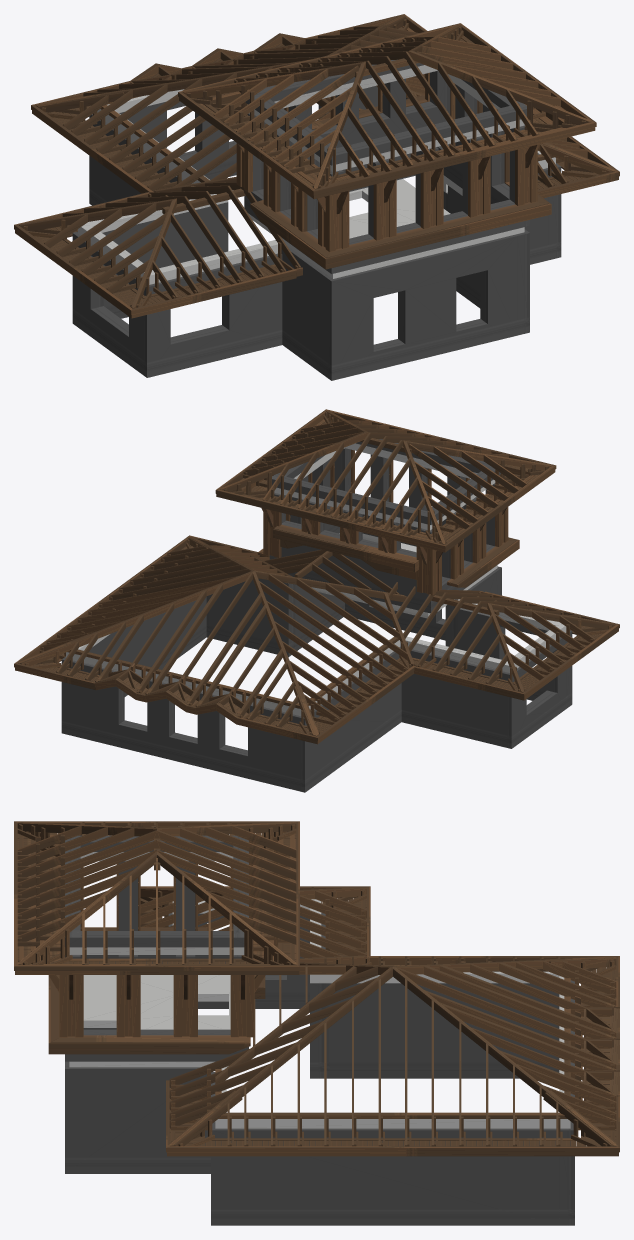
Rendered from Полная модель.glb.
3 views of the same model, one above another, from view 1: azimuth 30°, elevation 25°; view 2: azimuth 150°, elevation 25°; view 3: azimuth 270°, elevation 25° (orthographic). The views are drawn at different scales.
Parts seen in each view (by area): view 1: Базовая стена 1 этаж. Газобето_1a683b7, Стропилка. Основная, Стропилка. Башна, Базовая стена 1 этаж. Газобето_6445270, Базовая стена 1 этаж. Газобето_584556d, Перекрытие Башня. пояс [1394610], Перекрытие 2 этаж. Плита перек_e82685c, Перекрытие Башня. пояс [1185363], Деревянный брус 350х30 [1219446], Деревянный брус 145х45 [1384969], Деревянный брус 120х20 [1379587], Деревянный брус 145х45 [1185863] (+13 smaller); view 2: Базовая стена 1 этаж. Газобето_1a683b7, Стропилка. Основная, Стропилка. Башна, Базовая стена 1 этаж. Газобето_6445270, Перекрытие Башня. пояс [1394610], Базовая стена 1 этаж. Газобето_584556d, Перекрытие Башня. пояс [1185363], Деревянный брус 120х20 [1386294], Деревянный брус 350х30 [1220548], Деревянный брус 145х20 [1200578], Перекрытие 2 этаж. Плита перек_e82685c, Деревянный брус 145х45 [1215533] (+5 smaller); view 3: Базовая стена 1 этаж. Газобето_1a683b7, Стропилка. Основная, Стропилка. Башна, Перекрытие 2 этаж. Плита перек_e82685c, Базовая стена 1 этаж. Газобето_6445270, Перекрытие Башня. пояс [1394610], Базовая стена 1 этаж. Газобето_584556d, Деревянный брус 120х20 [1358651], Деревянный брус 145х20 [1358649], Перекрытие Башня. пояс [1185363], Деревянный брус 120х20 [1386140], Деревянный брус 350х30 [1217329] (+15 smaller).
Part boxes in pixels (x1,y1,x2,y2): Базовая стена 1 этаж. Газобето_1a683b7: [72, 86, 561, 380]; Стропилка. Основная: [19, 15, 614, 308]; Стропилка. Башна: [183, 25, 591, 189]; Базовая стена 1 этаж. Газобето_6445270: [244, 71, 529, 273]; Базовая стена 1 этаж. Газобето_584556d: [245, 59, 526, 165]; Перекрытие Башня. пояс [1394610]: [78, 89, 555, 284]; Перекрытие 2 этаж. Плита перек_e82685c: [248, 175, 524, 278]; Перекрытие Башня. пояс [1185363]: [254, 65, 524, 171]; Деревянный брус 350х30 [1219446]: [326, 201, 548, 257]; Деревянный брус 145х45 [1384969]: [325, 204, 551, 264]; Деревянный брус 120х20 [1379587]: [313, 122, 596, 195]; Деревянный брус 145х45 [1185863]: [325, 209, 551, 269]; Базовая стена 1 этаж. Газобето_1a683b7: [61, 566, 572, 792]; Стропилка. Основная: [18, 537, 615, 736]; Стропилка. Башна: [219, 410, 551, 544]; Базовая стена 1 этаж. Газобето_6445270: [269, 448, 501, 613]; Перекрытие Башня. пояс [1394610]: [66, 583, 566, 716]; Базовая стена 1 этаж. Газобето_584556d: [272, 439, 500, 524]; Перекрытие Башня. пояс [1185363]: [274, 443, 495, 530]; Деревянный брус 120х20 [1386294]: [215, 490, 445, 549]; Деревянный брус 350х30 [1220548]: [274, 524, 418, 563]; Деревянный брус 145х20 [1200578]: [216, 494, 445, 552]; Перекрытие 2 этаж. Плита перек_e82685c: [311, 533, 497, 618]; Деревянный брус 145х45 [1215533]: [274, 529, 413, 567]; Базовая стена 1 этаж. Газобето_1a683b7: [65, 912, 574, 1225]; Стропилка. Основная: [140, 887, 616, 1146]; Стропилка. Башна: [17, 822, 296, 964]; Перекрытие 2 этаж. Плита перек_e82685c: [69, 975, 230, 1067]; Базовая стена 1 этаж. Газобето_6445270: [65, 861, 248, 1061]; Перекрытие Башня. пояс [1394610]: [172, 899, 570, 1128]; Базовая стена 1 этаж. Газобето_584556d: [65, 835, 248, 947]; Деревянный брус 120х20 [1358651]: [166, 1147, 619, 1152]; Деревянный брус 145х20 [1358649]: [167, 1152, 618, 1156]; Перекрытие Башня. пояс [1185363]: [69, 852, 244, 954]; Деревянный брус 120х20 [1386140]: [14, 966, 299, 970]; Деревянный брус 350х30 [1217329]: [51, 1035, 248, 1042].
Bounding box in the file's own units: 14.81 × 7.47 × 14.51.
Materials: 3 (3 with a texture image).
